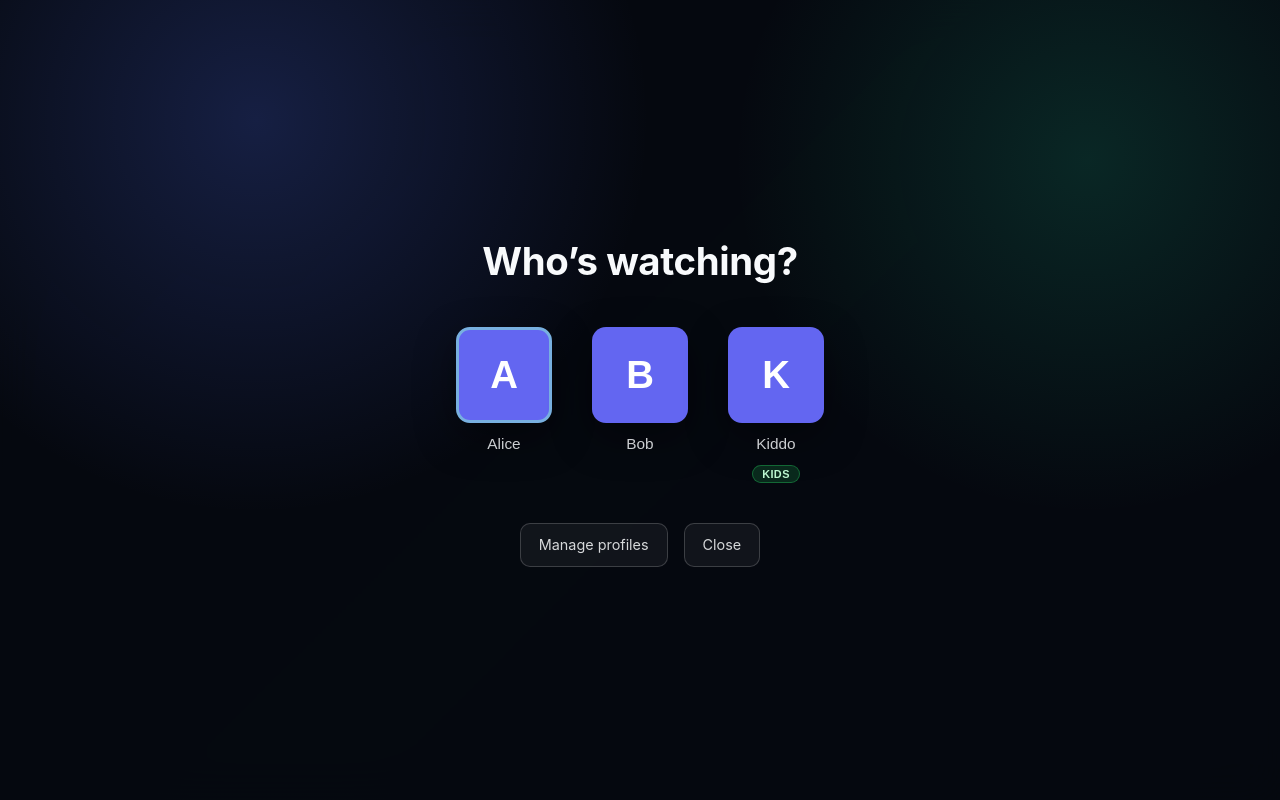
Test case: ProfilePicker delete (two-step) › surfaces an error when delete itself fails
Step 1. Click the button "Manage profiles" → (594, 545), box [520,523,668,567]
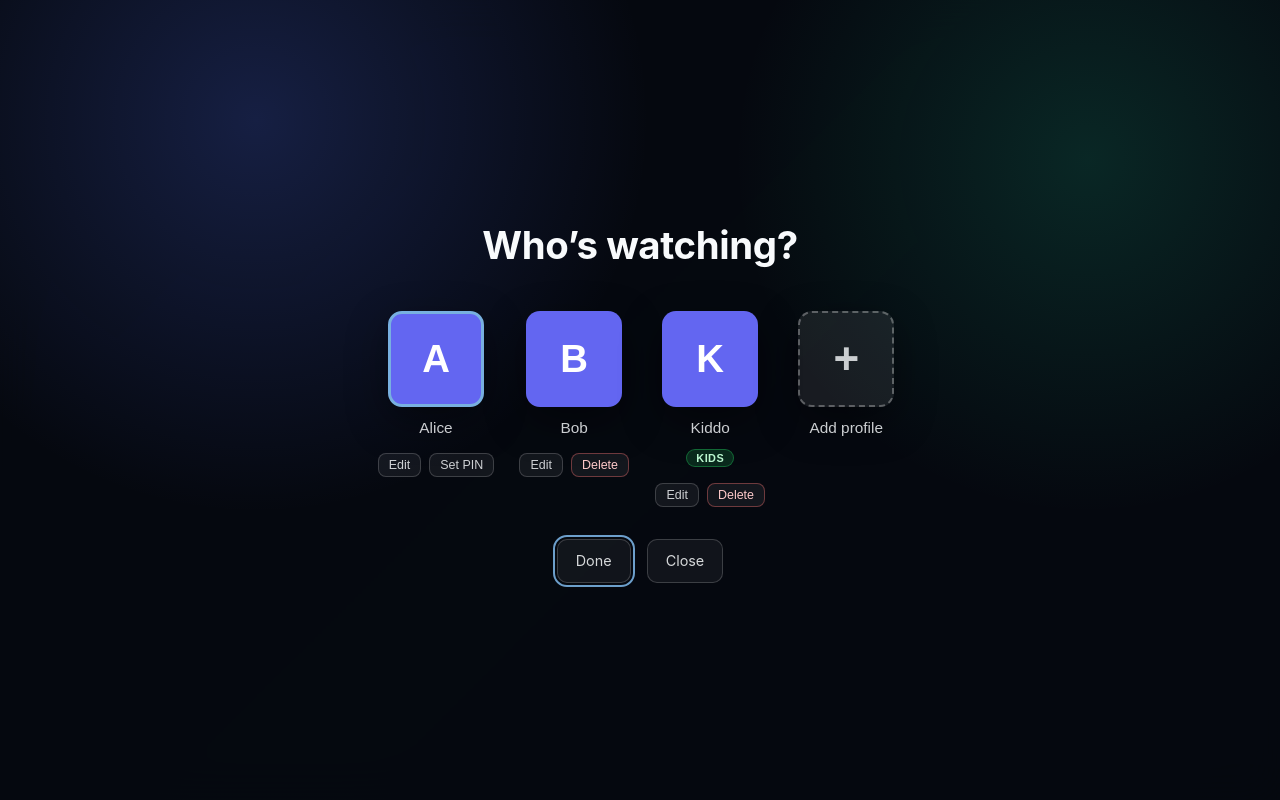
Step 2. Click the button with aria-label "Delete Bob" → (600, 465), box [571,453,629,477]
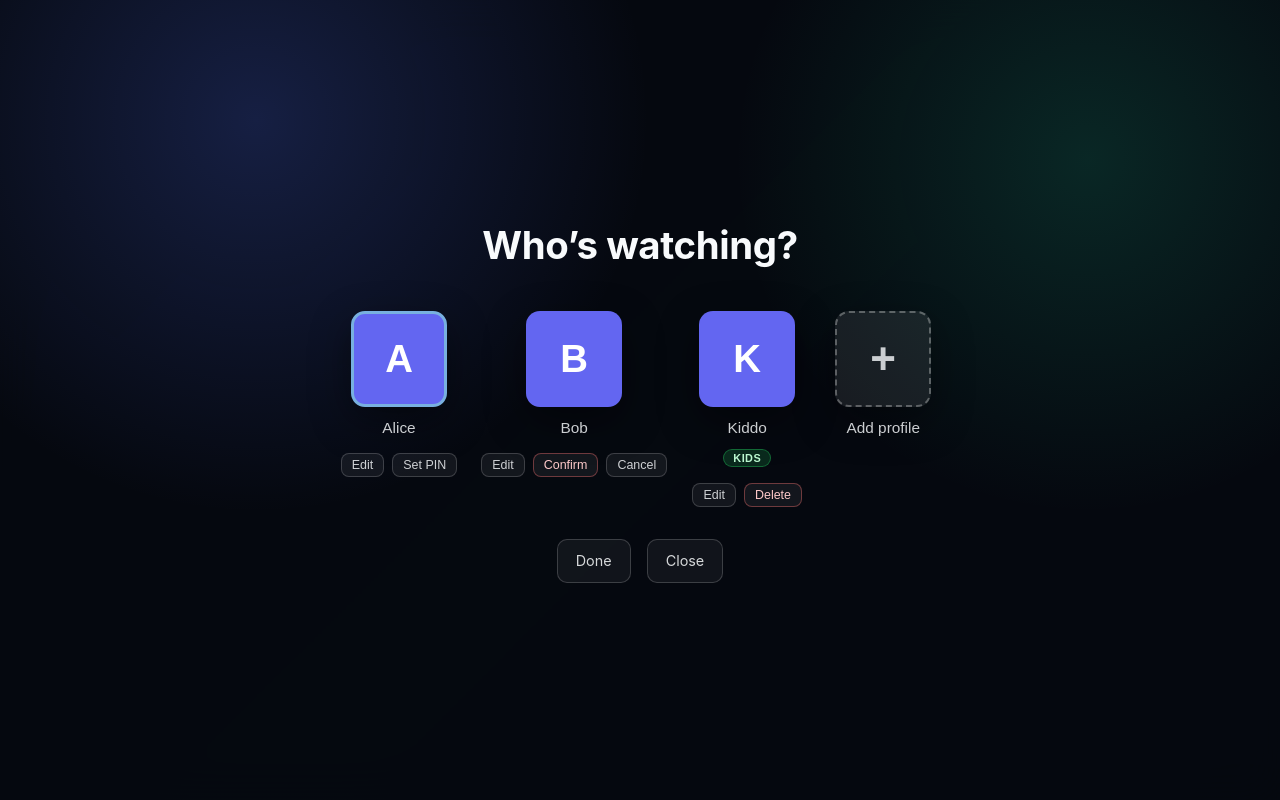
Step 3. Click the button "Confirm" → (566, 465), box [533,453,598,477]
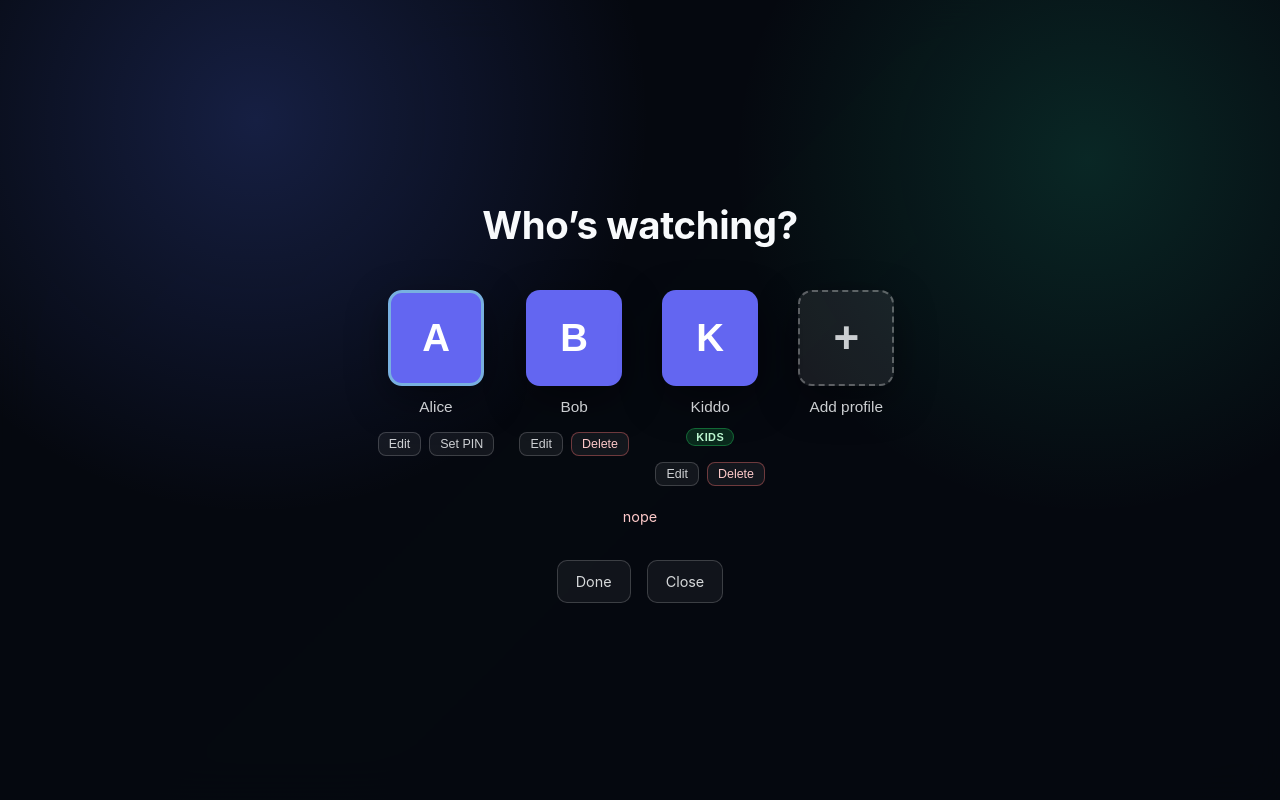
Now the text "nope" is shown, box [623,508,657,525]
